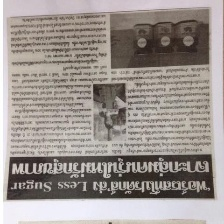news_paper: (1, 4, 218, 206)
